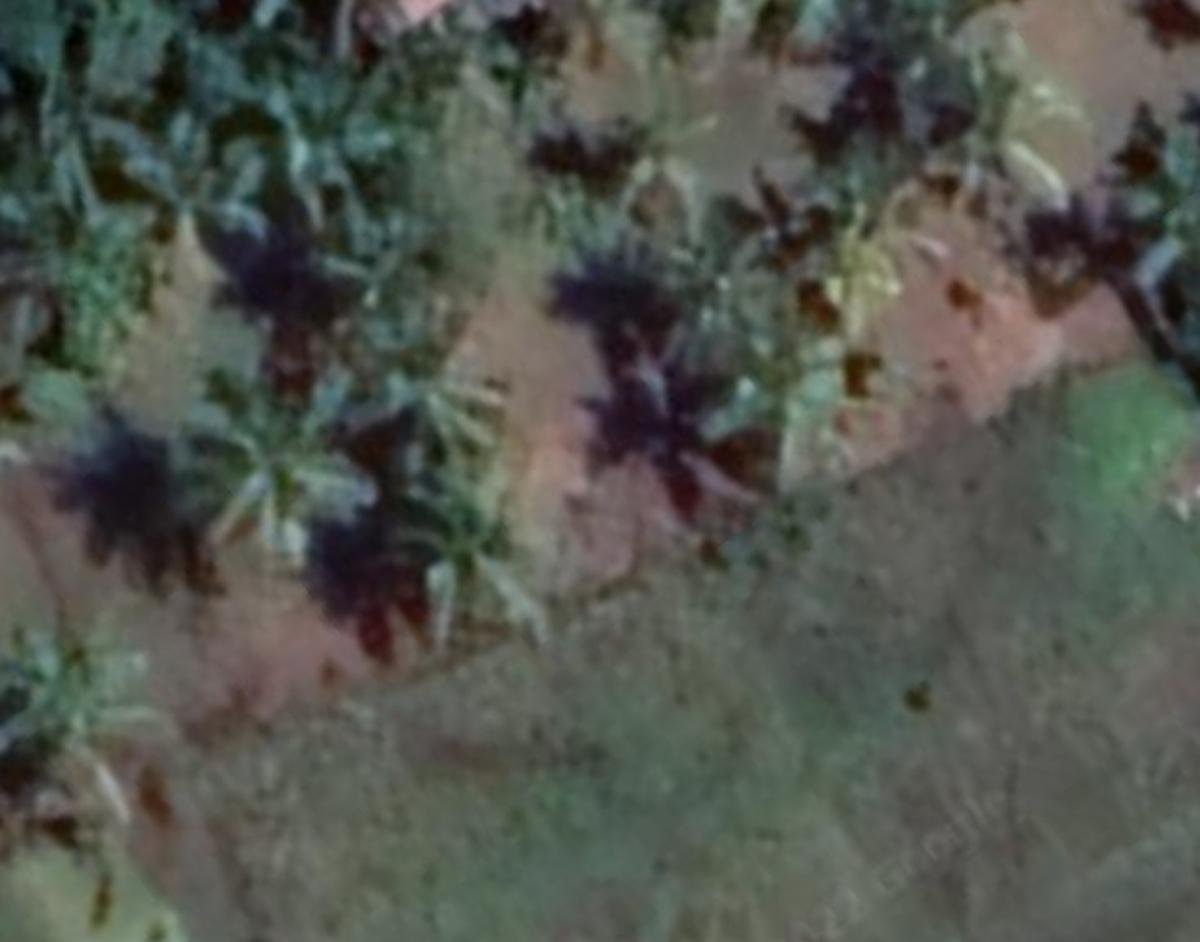coconut: (6, 613, 168, 803), (186, 395, 368, 563), (695, 321, 862, 496), (919, 37, 1075, 202), (380, 486, 538, 625), (360, 352, 509, 484)
